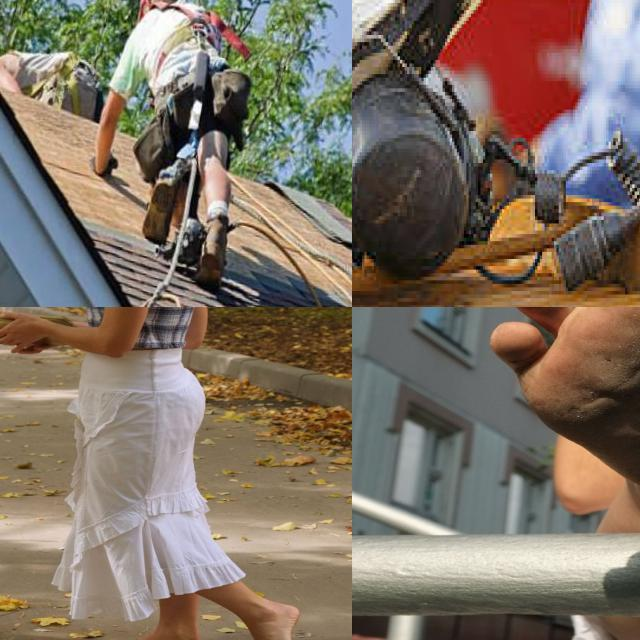Barefoots: (490, 307, 640, 571), (251, 603, 300, 640), (86, 634, 203, 640)
Ear-protection: (352, 95, 475, 276)
Harness: (147, 2, 252, 73)
head_helmet: (352, 0, 532, 291)
